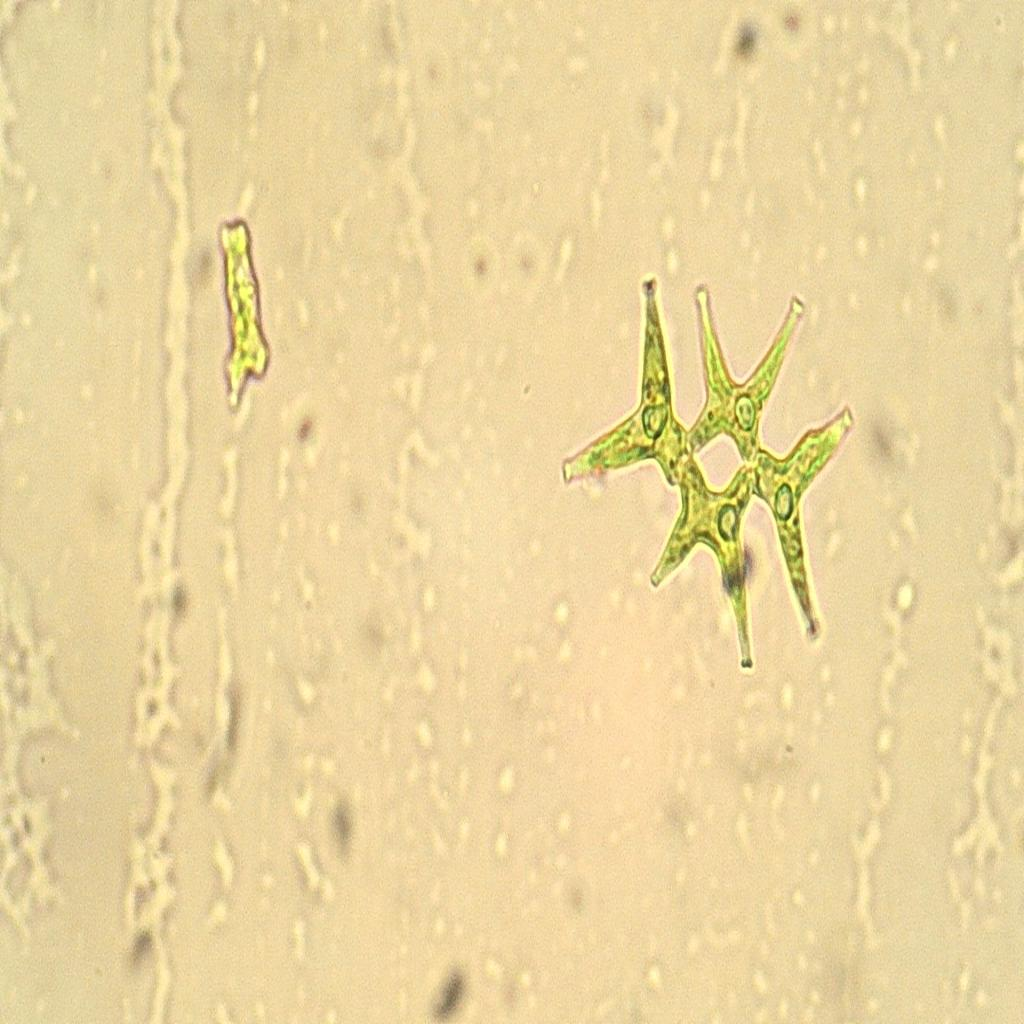Pediastrum_CT: (550, 238, 875, 699)
